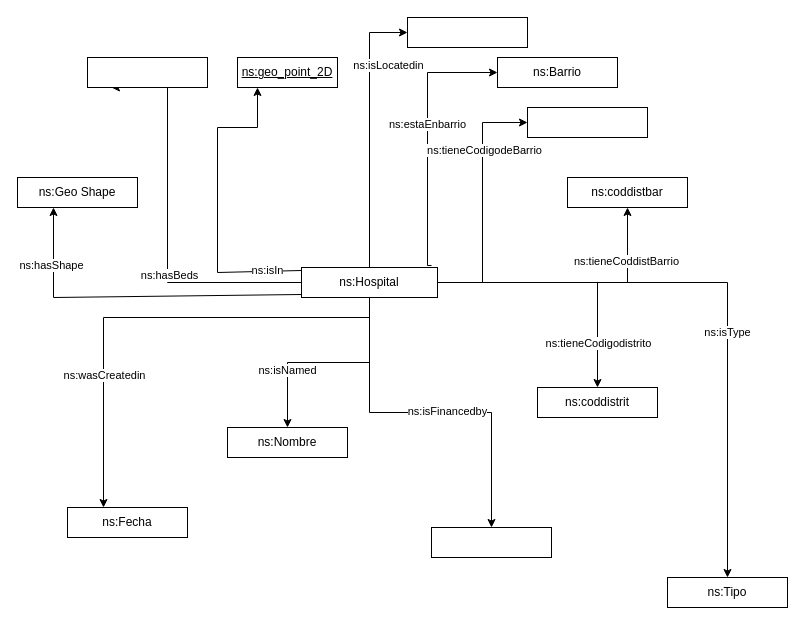
This 805x625 diagram has some shape labels left out. Each missing label, with the box of its shape:
ns:Camas: (86, 56, 208, 88)
ns:codbarrio: (526, 106, 648, 138)
ns:Direccion: (406, 16, 528, 48)
ns:Financiaci: (430, 526, 552, 558)
